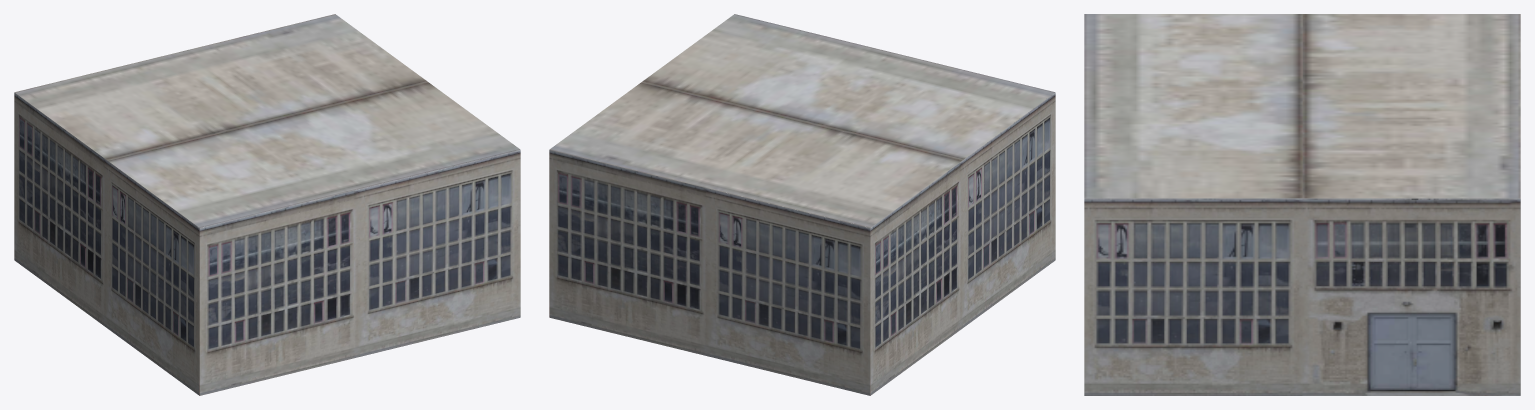
File: BuildingA.fbx
The picture shows the model from 3 angles, left to right: view 1: azimuth 30°, elevation 25°; view 2: azimuth 150°, elevation 25°; view 3: azimuth 270°, elevation 25°; orthographic projection. The views are drawn at different scales.
Parts seen in each view (by area): view 1: Building_A.001; view 2: Building_A.001; view 3: Building_A.001.
Boxes of the visible parts, left/top/right/bottom form: Building_A.001: left=14, top=14, right=520, bottom=395; Building_A.001: left=549, top=14, right=1055, bottom=395; Building_A.001: left=1084, top=14, right=1520, bottom=395.
Bounding box in the file's own units: 1200 × 600 × 1200.
1 material, 1 textured.
